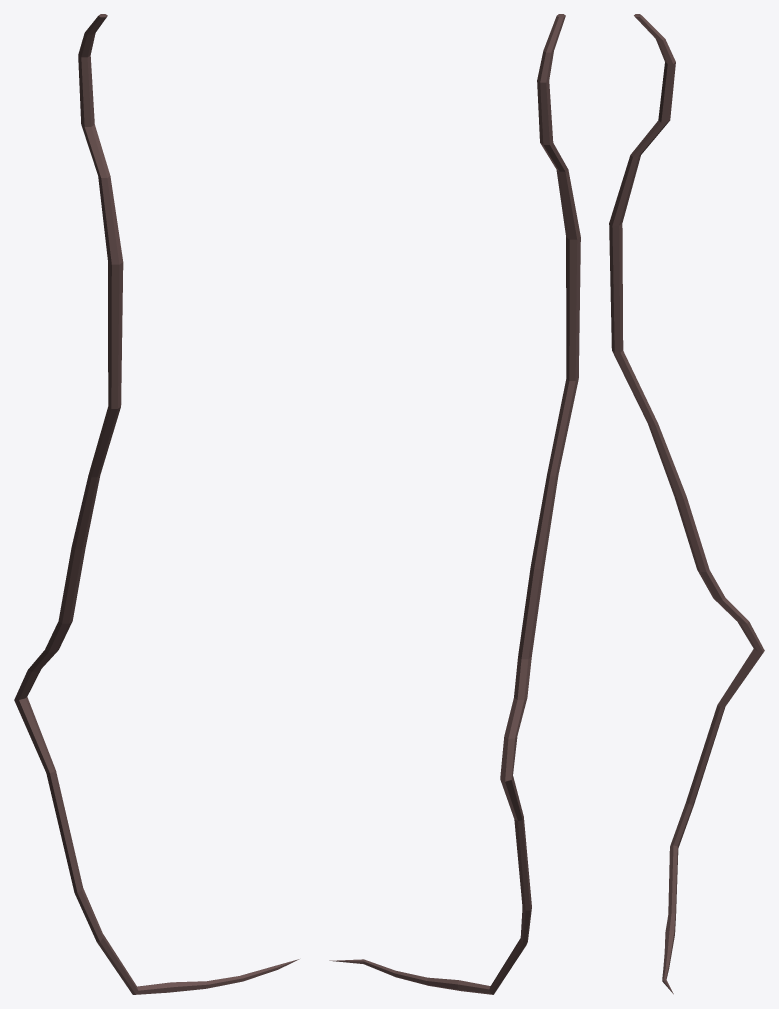
3 views of the same model, side by side, from view 1: azimuth 30°, elevation 25°; view 2: azimuth 150°, elevation 25°; view 3: azimuth 270°, elevation 25° (orthographic). The views are drawn at different scales.
Parts seen in each view (by area): view 1: Root 3; view 2: Root 3; view 3: Root 3.
Part boxes in pixels (x1,y1,x2,y2): Root 3: [14, 14, 299, 994]; Root 3: [329, 14, 580, 994]; Root 3: [609, 14, 764, 994].
Size of the model in its own units: 244 by 999 by 158.
